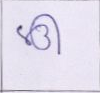i_matra: (40, 13, 65, 53)
